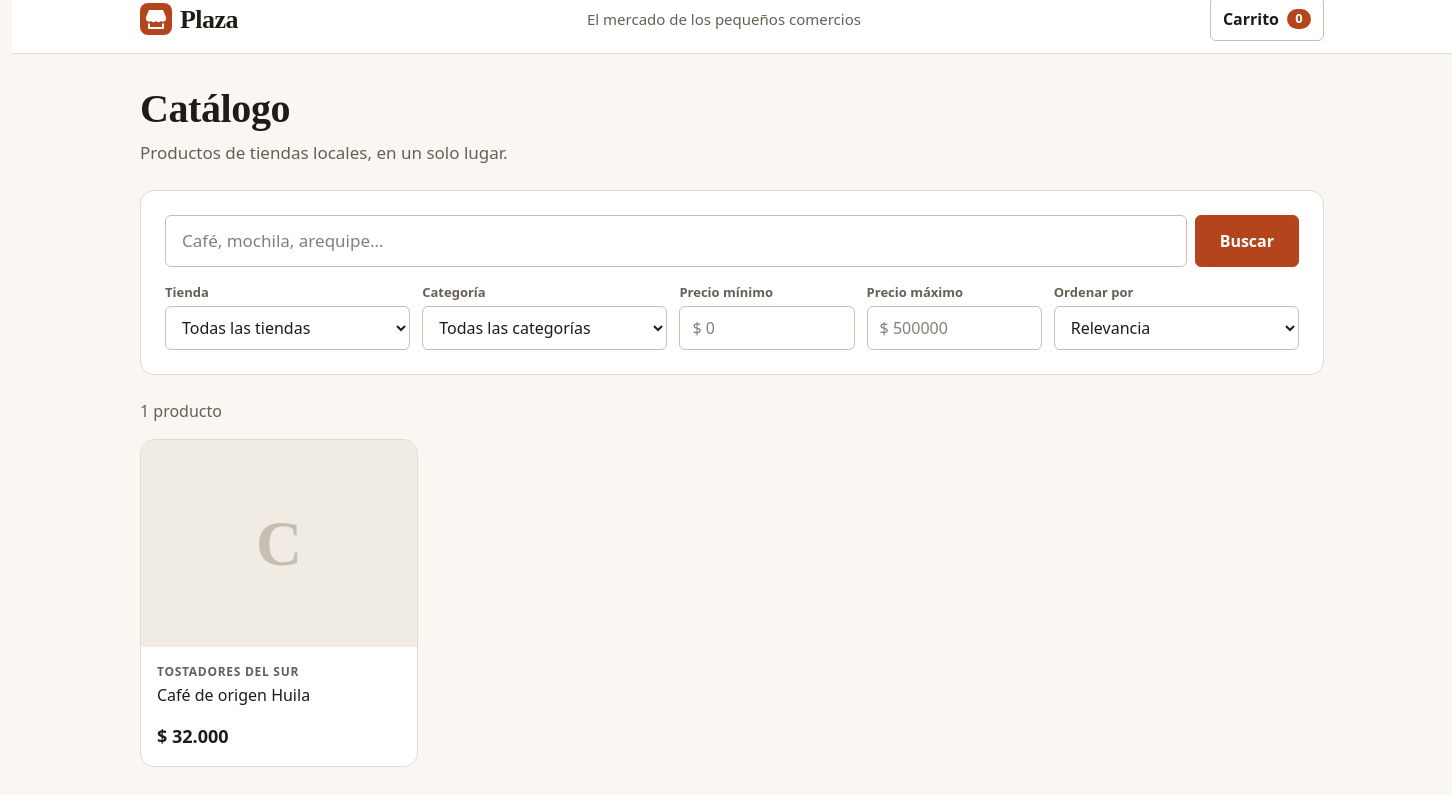
CatalogPage › changing the sort order is written to the URL and sent to the API
The image size is (1452, 795).
Expected: the heading "Café de origen Huila" is shown, left=157, top=684, right=310, bottom=706
Select "Precio: menor a mayor" in the dropdown labelled "Ordenar por". click: (1176, 328)
box: left=1054, top=306, right=1299, bottom=350
(page scrolled)
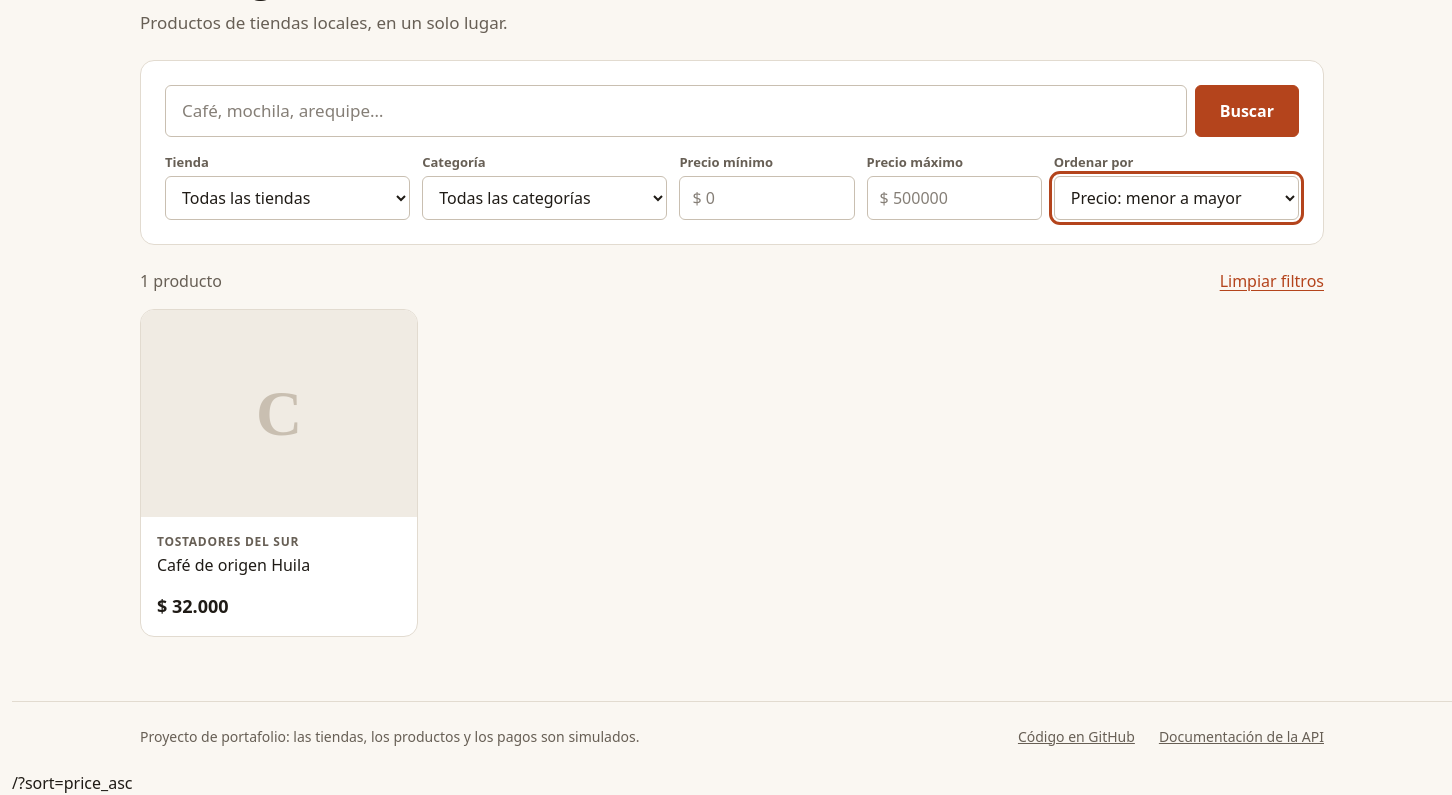
Result: the text with test id "url" reads "/?sort=price_asc" at left=12, top=772, right=132, bottom=794
